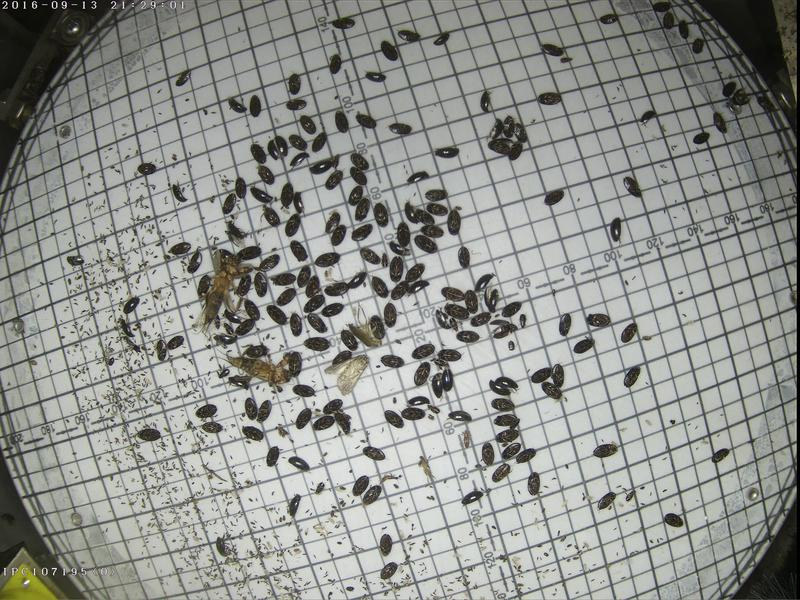Gryllotalpa orientalis: (205, 248, 240, 313), (225, 350, 288, 381)
